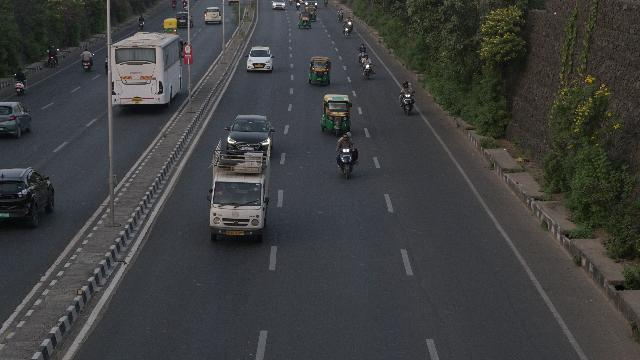With Helmet: (402, 82, 410, 88), (360, 42, 364, 48)
Without Helmet: (346, 132, 352, 140), (342, 133, 348, 140), (408, 83, 412, 89), (365, 54, 369, 60)
